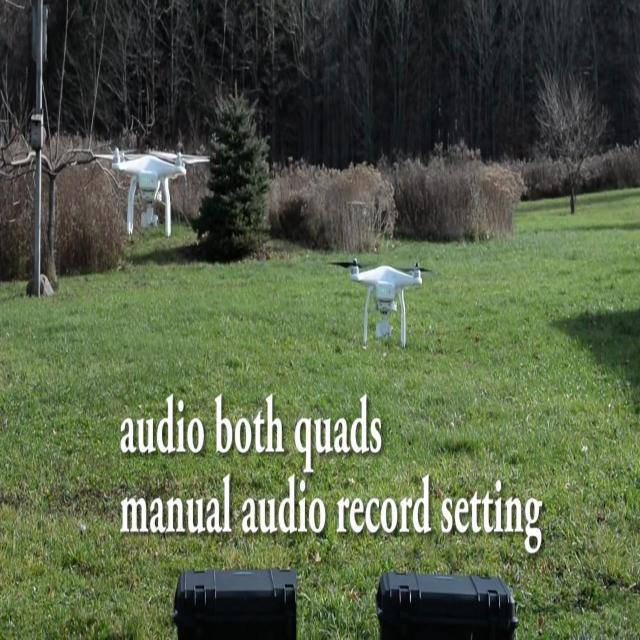drone: (64, 143, 215, 242), (328, 256, 433, 350)
